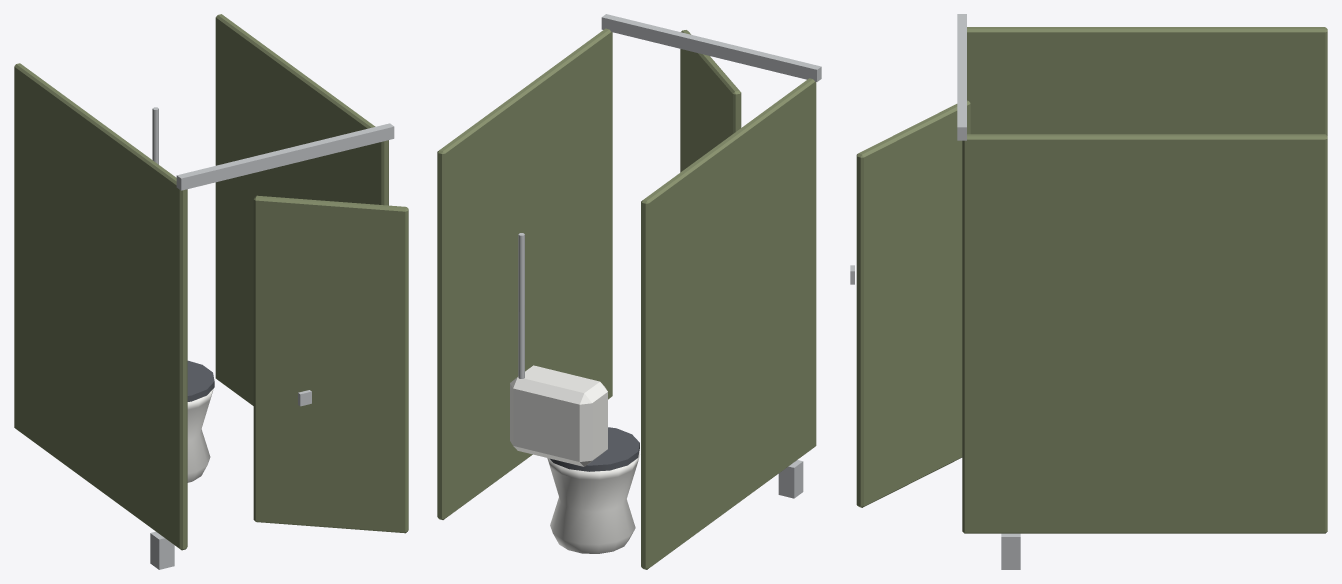
Rendered from toilet_stall.glb.
The picture shows the model from 3 angles, left to right: view 1: azimuth 30°, elevation 25°; view 2: azimuth 150°, elevation 25°; view 3: azimuth 270°, elevation 25°; orthographic projection. The views are drawn at different scales.
Visible parts, largest first — view 1: toilet_stall; view 2: toilet_stall; view 3: toilet_stall.
Boxes of the visible parts, bbox=[...] form: toilet_stall: bbox=[14, 14, 408, 569]; toilet_stall: bbox=[437, 14, 821, 569]; toilet_stall: bbox=[850, 14, 1327, 569].
Size of the model in its own units: 1.12 by 2 by 1.96.
